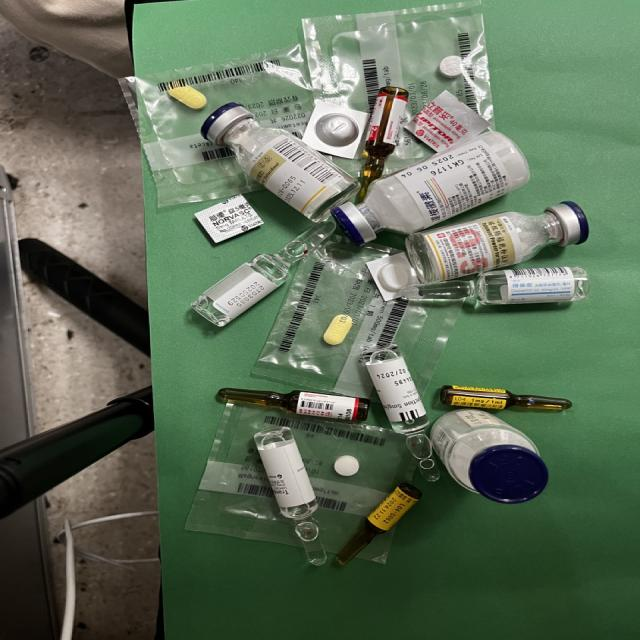Ampoules: (190, 221, 336, 328), (360, 344, 442, 482), (253, 426, 327, 566), (400, 266, 589, 306), (335, 483, 423, 565), (357, 86, 409, 204), (219, 388, 373, 422), (441, 386, 574, 411)
Vials: (332, 130, 531, 248), (200, 102, 361, 223), (405, 202, 590, 283), (431, 410, 549, 506)
